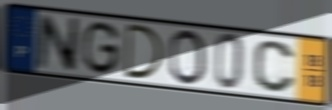0: (214, 32, 249, 93)
C: (251, 39, 298, 95)
D: (124, 22, 166, 81)
G: (80, 20, 122, 77)
N: (34, 12, 81, 75)
O: (167, 28, 208, 87)
